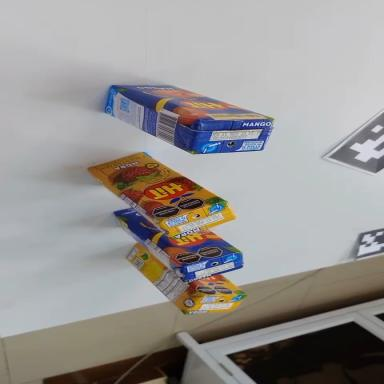HIT-MANGO: (98, 67, 275, 174), (105, 180, 249, 304)
HIT-MORA: (80, 133, 240, 261), (115, 241, 250, 332)
cara_F: (83, 132, 226, 244), (111, 178, 241, 288), (110, 66, 273, 142), (191, 273, 247, 296)
